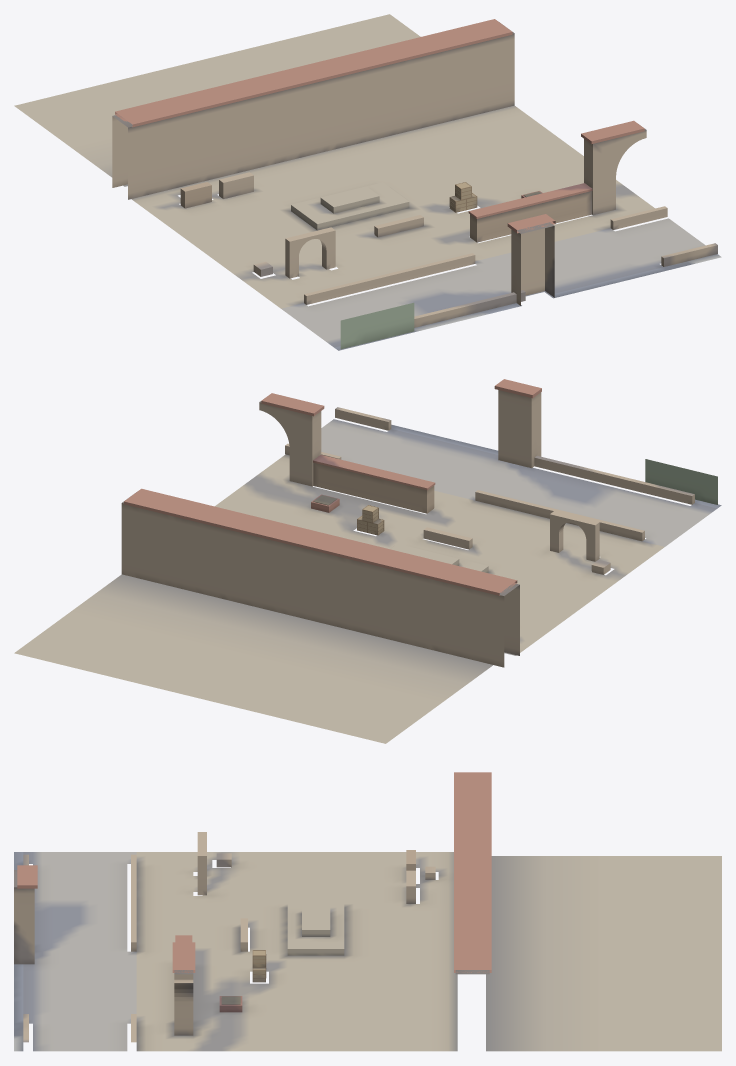
The picture shows the model from 3 angles, top to bottom: view 1: azimuth 30°, elevation 25°; view 2: azimuth 150°, elevation 25°; view 3: azimuth 270°, elevation 25°; orthographic projection. The views are drawn at different scales.
Visible parts, largest first — view 1: t; view 2: t; view 3: t.
Boxes of the visible parts, x1,y1,x2,y2 form: t: (14, 14, 721, 350); t: (14, 379, 721, 743); t: (14, 772, 721, 1051).
Bounding box in the file's own units: 50.47 × 9.4 × 75.
